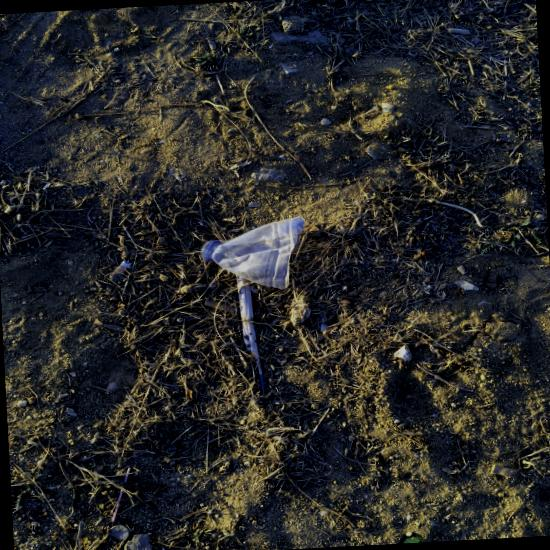Cigarette: (109, 260, 132, 278)
Clear plastic bottle: (201, 217, 306, 289)
Other plastic bottle: (112, 468, 131, 521)
Unlabeled litter: (236, 275, 264, 394), (124, 534, 153, 550), (400, 537, 420, 544)
